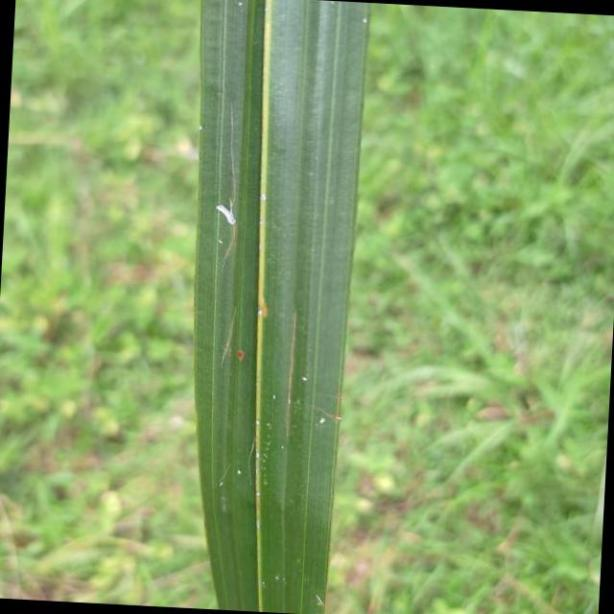Boron: (198, 0, 363, 614)
